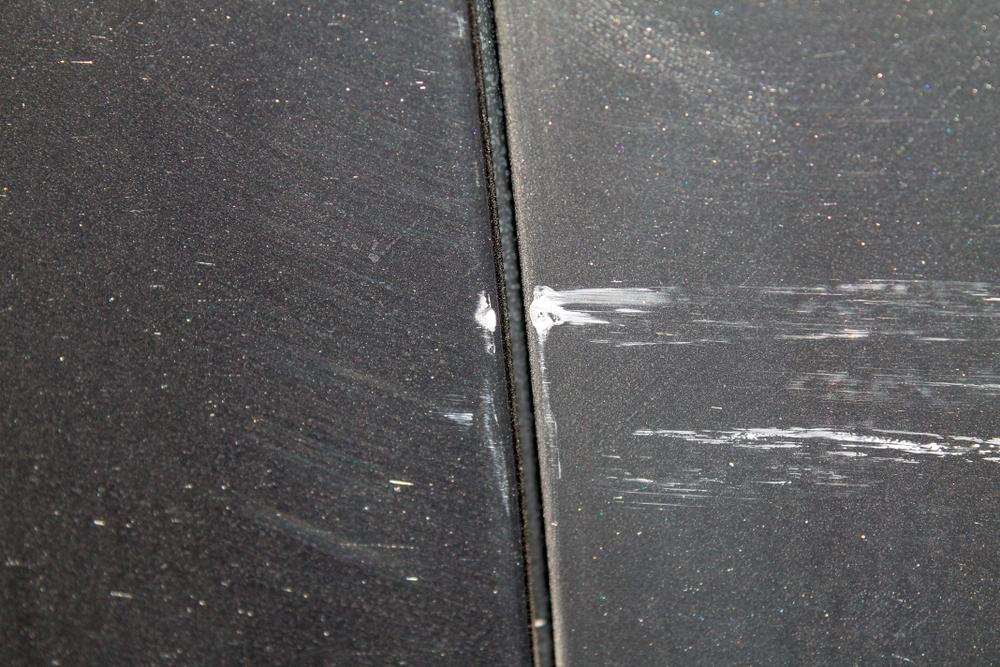scratch: (521, 275, 1000, 512), (443, 284, 518, 524)
